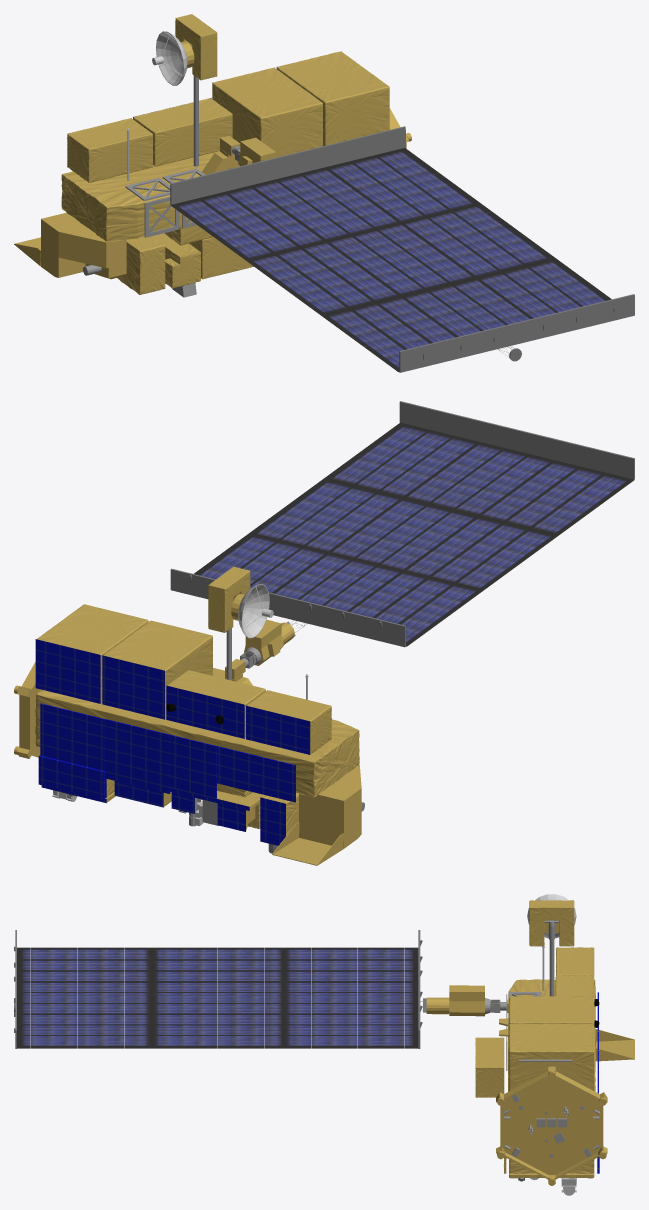
The model's file is nasa_eos_am-1terra_satellite.glb.
The picture shows the model from 3 angles, top to bottom: view 1: azimuth 30°, elevation 25°; view 2: azimuth 150°, elevation 25°; view 3: azimuth 270°, elevation 25°; orthographic projection. The views are drawn at different scales.
Parts seen in each view (by area): view 1: Terra_vFINAL_[Layer17]_16_36, Terra_vFINAL_[Layer16]_15_34, Terra_vFINAL_[Layer1]_0_3, Terra_vFINAL_[Layer13]_12_28, Terra_vFINAL_[Layer18]_17_38, Terra_vFINAL_[Layer2]_1_6, Terra_vFINAL_[Layer11]_10_24, Terra_vFINAL_[Layer12]_11_26, Terra_vFINAL_[Layer19]_18_41, Terra_vFINAL_[Layer3]_2_8, Terra_vFINAL_[Layer9]_8_20, Terra_vFINAL_[Layer4]_3_10 (+2 smaller); view 2: Terra_vFINAL_[Layer17]_16_36, Terra_vFINAL_[Layer15]_14_32, Terra_vFINAL_[Layer16]_15_34, Terra_vFINAL_[Layer18]_17_38, Terra_vFINAL_[Layer1]_0_3, Terra_vFINAL_[Layer13]_12_28, Terra_vFINAL_[Layer2]_1_6, Terra_vFINAL_[Layer11]_10_24, Terra_vFINAL_[Layer9]_8_20, Terra_vFINAL_[Layer12]_11_26, Terra_vFINAL_[Layer20]_19_43, Terra_vFINAL_[Layer19]_18_41; view 3: Terra_vFINAL_[Layer17]_16_36, Terra_vFINAL_[Layer18]_17_38, Terra_vFINAL_[Layer2]_1_6, Terra_vFINAL_[Layer13]_12_28, Terra_vFINAL_[Layer19]_18_41, Terra_vFINAL_[Layer10]_9_22, Terra_vFINAL_[Layer9]_8_20, Terra_vFINAL_[Layer11]_10_24, Terra_vFINAL_[Layer16]_15_34, Terra_vFINAL_[Layer1]_0_3, Terra_vFINAL_[Layer12]_11_26, Terra_vFINAL_[Layer6]_5_14.
Boxes of the visible parts, box(x1,y1,x2,y2) form: Terra_vFINAL_[Layer17]_16_36: box(171, 148, 611, 371); Terra_vFINAL_[Layer16]_15_34: box(170, 126, 634, 372); Terra_vFINAL_[Layer1]_0_3: box(61, 151, 219, 245); Terra_vFINAL_[Layer13]_12_28: box(212, 67, 322, 157); Terra_vFINAL_[Layer18]_17_38: box(14, 41, 411, 279); Terra_vFINAL_[Layer2]_1_6: box(276, 51, 389, 145); Terra_vFINAL_[Layer11]_10_24: box(67, 118, 152, 182); Terra_vFINAL_[Layer12]_11_26: box(133, 98, 232, 166); Terra_vFINAL_[Layer19]_18_41: box(83, 75, 240, 297); Terra_vFINAL_[Layer3]_2_8: box(117, 236, 165, 294); Terra_vFINAL_[Layer9]_8_20: box(175, 14, 217, 80); Terra_vFINAL_[Layer4]_3_10: box(153, 233, 200, 288); Terra_vFINAL_[Layer17]_16_36: box(194, 422, 634, 646); Terra_vFINAL_[Layer15]_14_32: box(35, 639, 310, 845); Terra_vFINAL_[Layer16]_15_34: box(170, 401, 634, 647); Terra_vFINAL_[Layer18]_17_38: box(14, 593, 361, 865); Terra_vFINAL_[Layer1]_0_3: box(35, 690, 359, 797); Terra_vFINAL_[Layer13]_12_28: box(103, 620, 212, 719); Terra_vFINAL_[Layer2]_1_6: box(37, 604, 148, 703); Terra_vFINAL_[Layer11]_10_24: box(247, 690, 331, 754); Terra_vFINAL_[Layer9]_8_20: box(208, 566, 250, 632); Terra_vFINAL_[Layer12]_11_26: box(167, 670, 265, 737); Terra_vFINAL_[Layer20]_19_43: box(238, 584, 273, 638); Terra_vFINAL_[Layer19]_18_41: box(69, 628, 364, 853); Terra_vFINAL_[Layer17]_16_36: box(17, 947, 418, 1048); Terra_vFINAL_[Layer18]_17_38: box(426, 920, 634, 1185); Terra_vFINAL_[Layer2]_1_6: box(509, 1024, 594, 1091); Terra_vFINAL_[Layer13]_12_28: box(509, 996, 594, 1064); Terra_vFINAL_[Layer19]_18_41: box(485, 920, 600, 1181); Terra_vFINAL_[Layer10]_9_22: box(475, 1037, 504, 1097); Terra_vFINAL_[Layer9]_8_20: box(529, 900, 574, 946); Terra_vFINAL_[Layer11]_10_24: box(556, 947, 594, 995); Terra_vFINAL_[Layer16]_15_34: box(14, 930, 426, 1048); Terra_vFINAL_[Layer1]_0_3: box(508, 979, 595, 1091); Terra_vFINAL_[Layer12]_11_26: box(555, 975, 593, 996); Terra_vFINAL_[Layer6]_5_14: box(509, 1159, 594, 1173).
Size of the model in its own units: 5.92 by 4.47 by 11.32.
24 materials, 2 textured.
